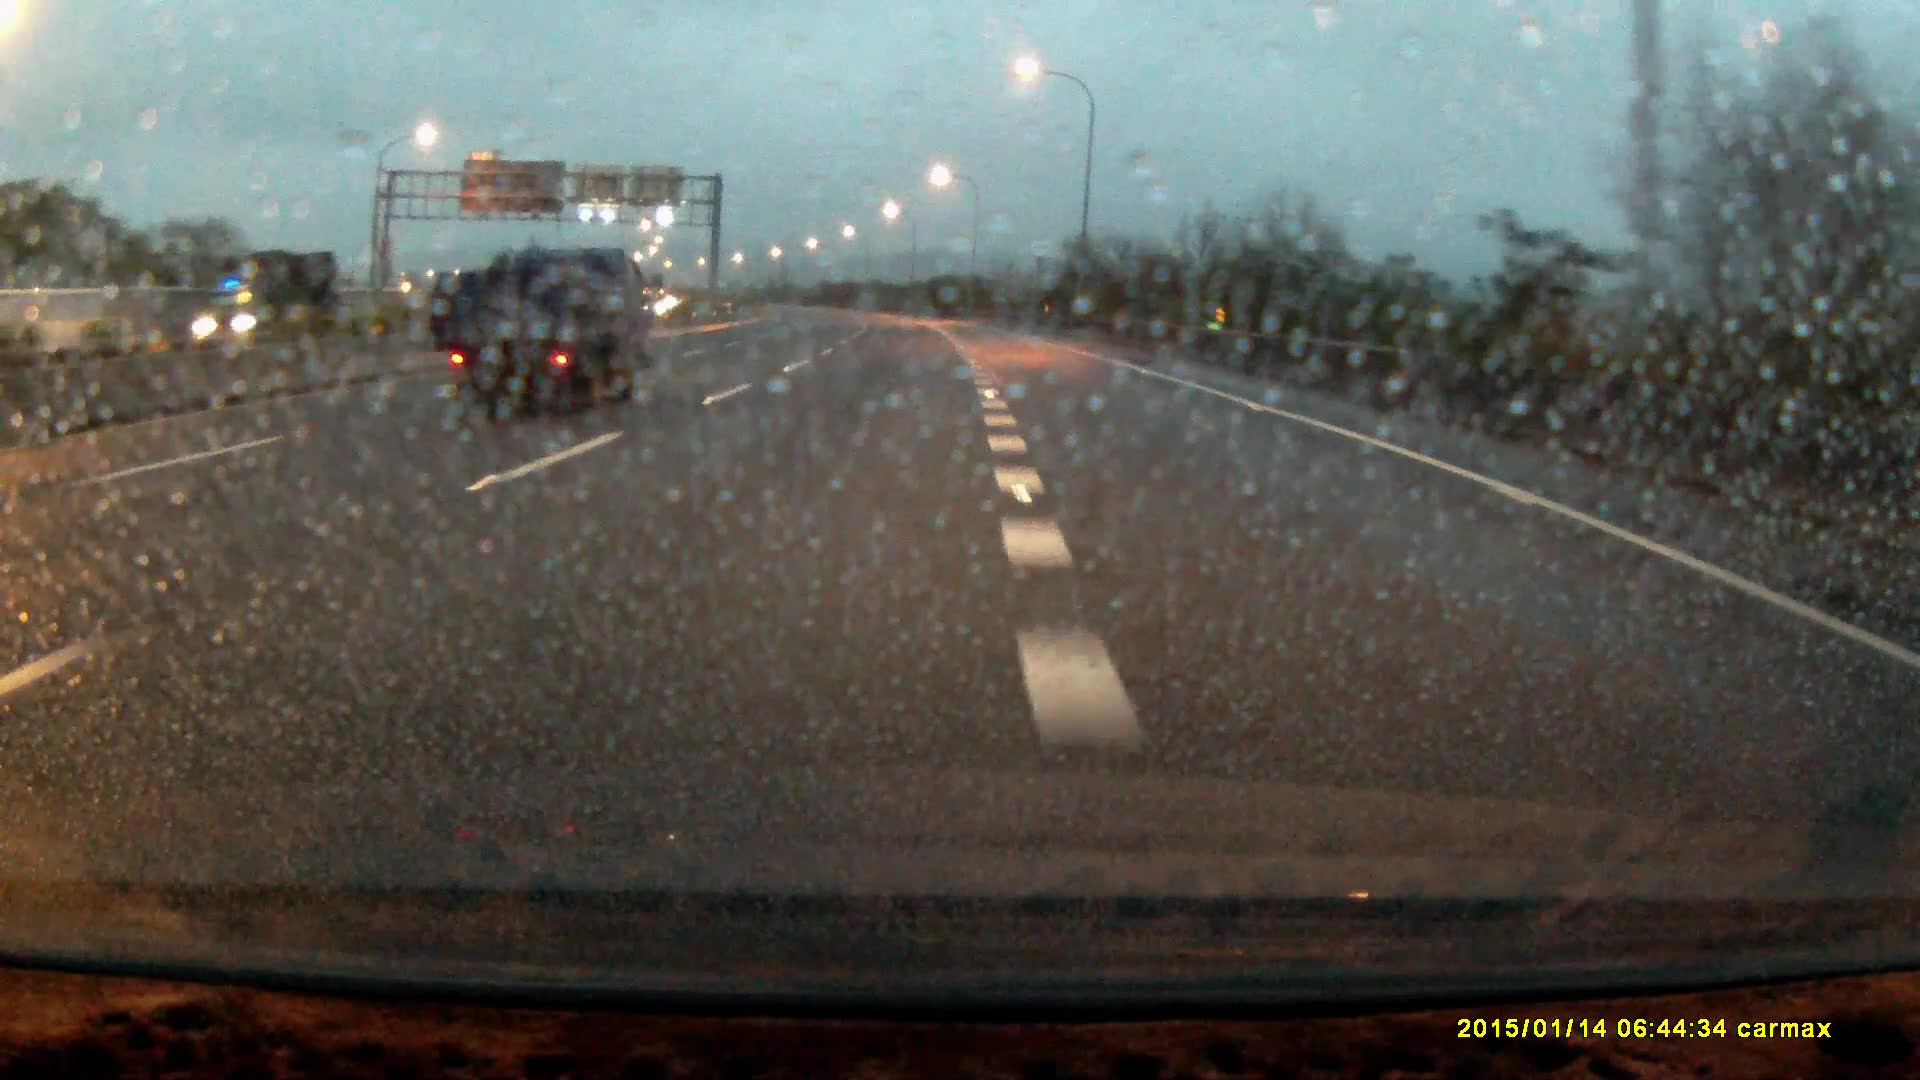vehicle: (431, 245, 644, 415), (185, 253, 342, 349)
